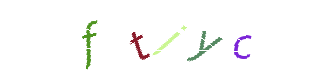C: (200, 0, 280, 80)
F: (98, 0, 178, 80)
J: (117, 0, 197, 80)
T: (104, 0, 184, 80)
Y: (121, 0, 201, 80)
